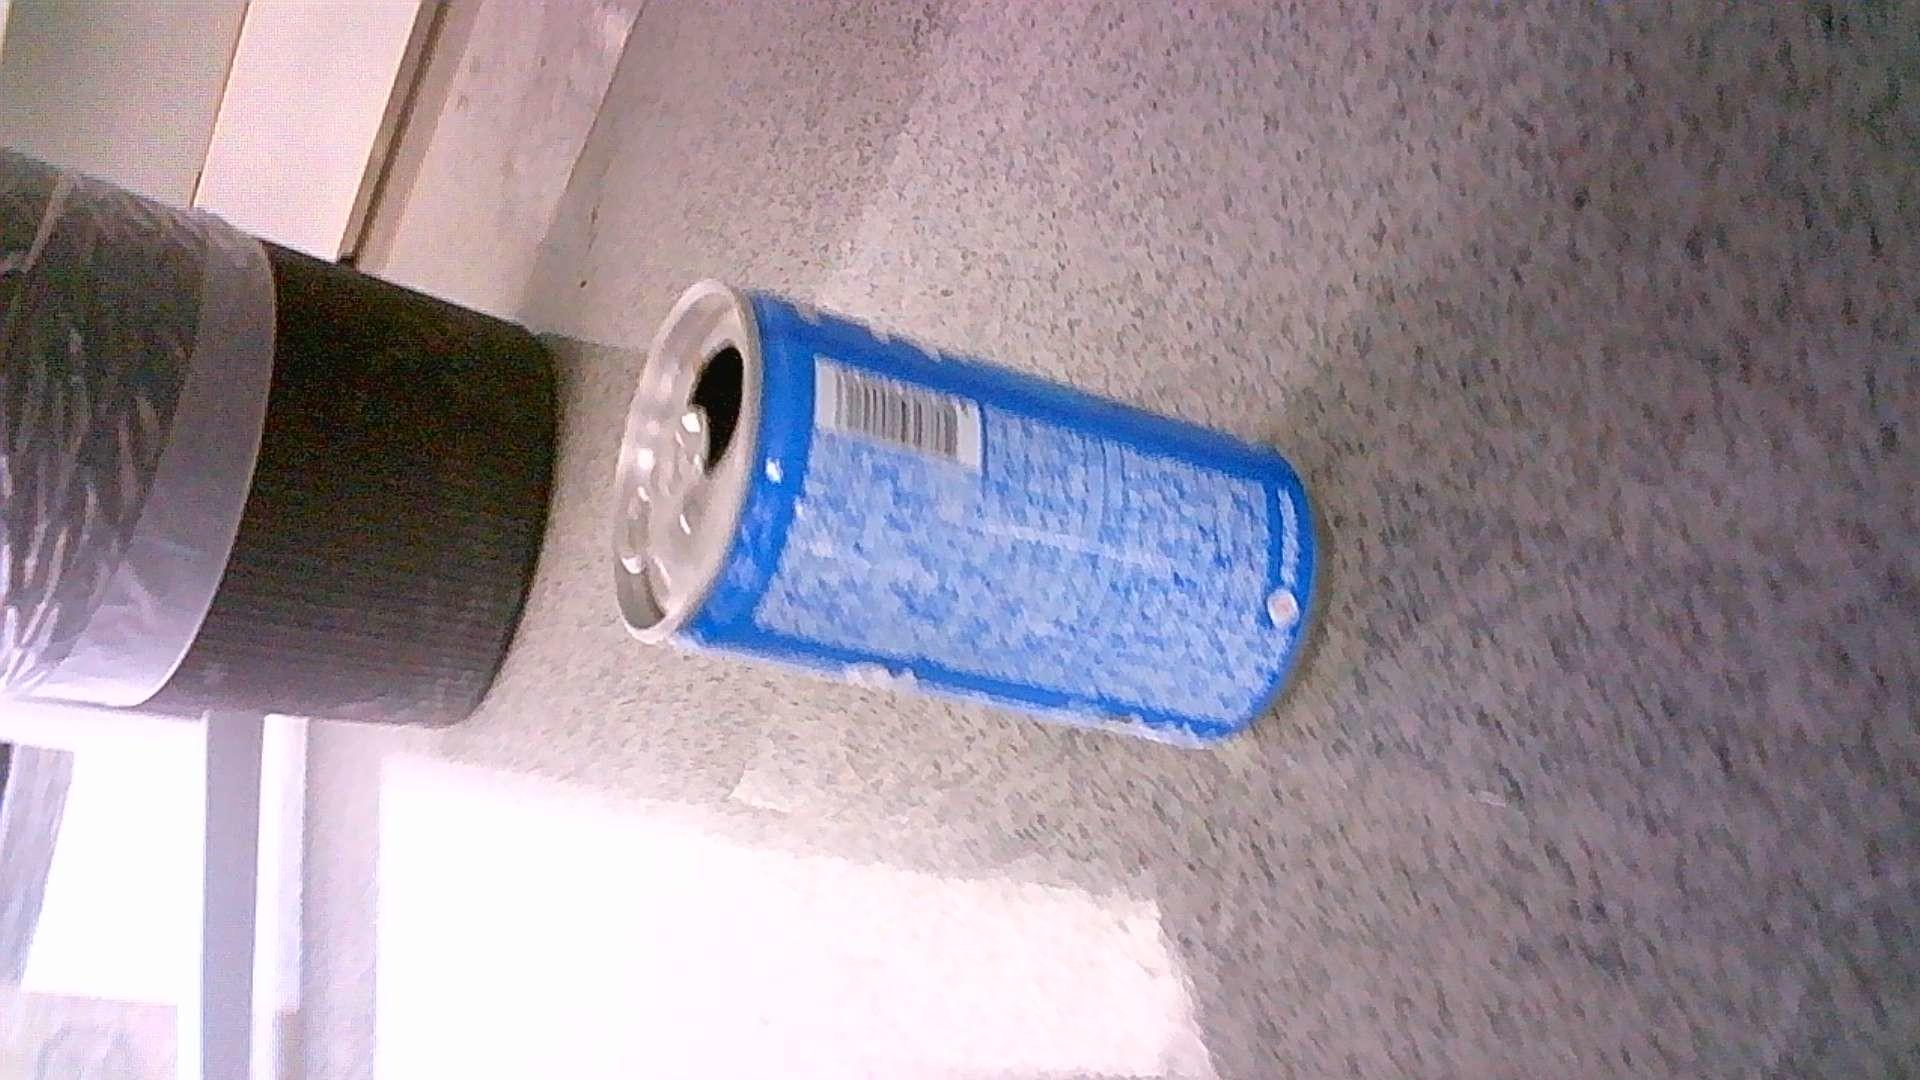letsbe: (611, 277, 1317, 749)
